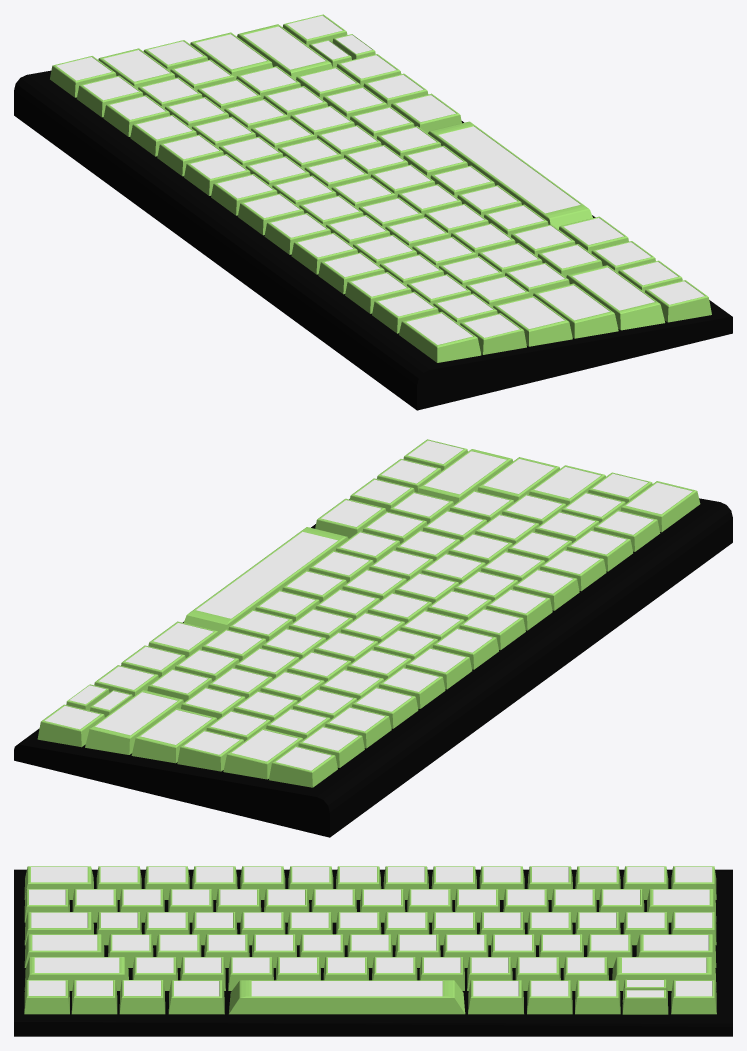
The model's file is keyboard.dae.
3 renders of one model, top to bottom at view 1: azimuth 30°, elevation 25°; view 2: azimuth 150°, elevation 25°; view 3: azimuth 270°, elevation 25°, orthographic. The views are drawn at different scales.
Parts seen in each view (by area): view 1: Plane, Cube.073, Cube.066, Cube.025, Cube.056, Cube.043, Cube.041, Cube.054, Cube.077, Cube, Cube.027, Cube.072 (+66 smaller); view 2: Plane, Cube.073, Cube.056, Cube.066, Cube.054, Cube.027, Cube.025, Cube.026, Cube.043, Cube.068, Cube.028, Cube.041 (+66 smaller); view 3: Plane, Cube.073, Cube.056, Cube.066, Cube.074, Cube.072, Cube.043, Cube.054, Cube.025, Cube.027, Cube.041, Cube.076 (+67 smaller).
Part boxes in pixels (x1,y1,x2,y2): Plane: (14,70,732,410); Cube.073: (428,121,592,229); Cube.066: (566,265,665,330); Cube.025: (399,311,481,362); Cube.056: (237,24,332,79); Cube.043: (533,283,618,338); Cube.041: (493,296,572,346); Cube.054: (190,32,272,79); Cube.077: (645,280,711,322); Cube: (460,313,526,354); Cube.027: (98,48,175,88); Cube.072: (391,93,461,133); Plane: (14,498,732,837); Cube.073: (184,527,348,634); Cube.056: (85,690,183,754); Cube.066: (417,449,512,504); Cube.054: (131,708,217,763); Cube.027: (223,728,303,779); Cube.025: (620,481,700,532); Cube.026: (269,746,337,787); Cube.043: (477,457,559,502); Cube.068: (37,704,104,747); Cube.028: (177,730,243,771); Cube.041: (529,465,605,505); Plane: (14,869,732,1036); Cube.073: (229,980,465,1014); Cube.056: (612,957,716,990); Cube.066: (24,957,128,990); Cube.074: (168,980,224,1014); Cube.072: (468,980,523,1014); Cube.043: (24,934,104,967); Cube.054: (636,934,716,967); Cube.025: (24,866,93,899); Cube.027: (647,889,716,922); Cube.041: (24,912,93,945); Cube.076: (71,980,117,1014).
Size of the model in its own units: 2.06 by 4.56 by 0.3204.
